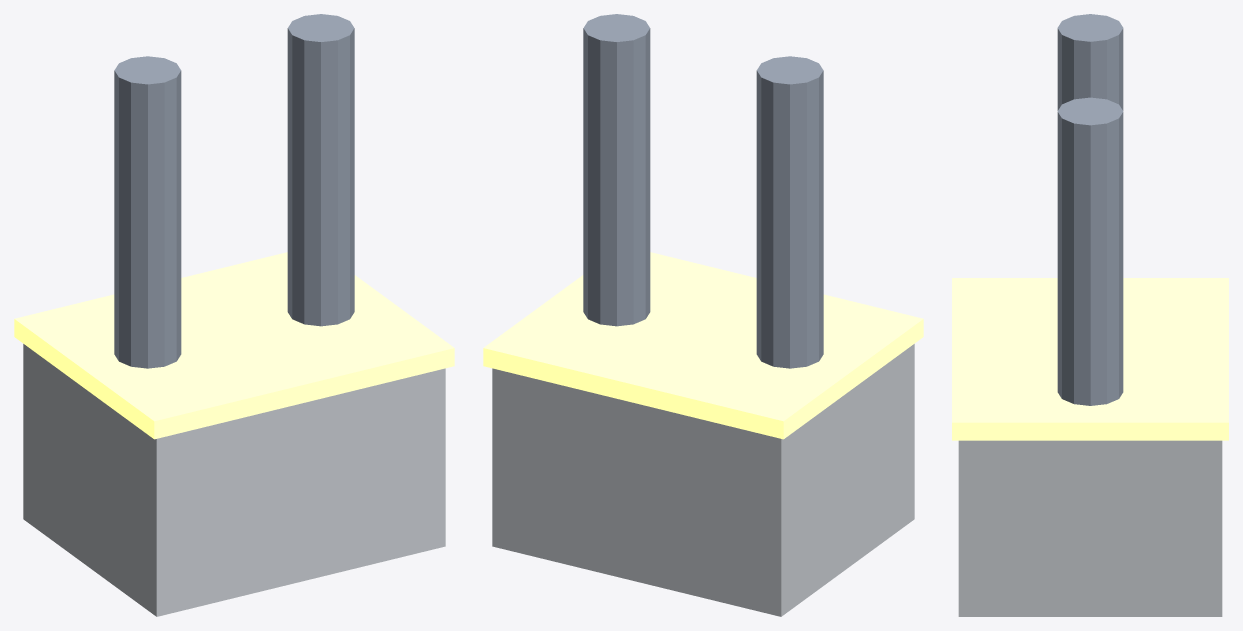
Rendered from gen.glb.
3 renders of one model, left to right at view 1: azimuth 30°, elevation 25°; view 2: azimuth 150°, elevation 25°; view 3: azimuth 270°, elevation 25°, orthographic.
Parts seen in each view (by area): view 1: body, cap, stack_b, stack_a; view 2: body, cap, stack_b, stack_a; view 3: body, cap, stack_b, stack_a.
Boxes of the visible parts, x1=… form: body: x1=23, y1=344, x2=445, y2=616; cap: x1=14, y1=252, x2=454, y2=439; stack_b: x1=287, y1=14, x2=354, y2=326; stack_a: x1=114, y1=56, x2=181, y2=368; body: x1=492, y1=344, x2=914, y2=616; cap: x1=483, y1=252, x2=923, y2=439; stack_b: x1=583, y1=14, x2=650, y2=326; stack_a: x1=756, y1=56, x2=823, y2=368; body: x1=958, y1=440, x2=1222, y2=616; cap: x1=952, y1=278, x2=1228, y2=440; stack_b: x1=1057, y1=97, x2=1123, y2=405; stack_a: x1=1057, y1=14, x2=1123, y2=110.
Size of the model in its own units: 10.4 by 16 by 8.4.
